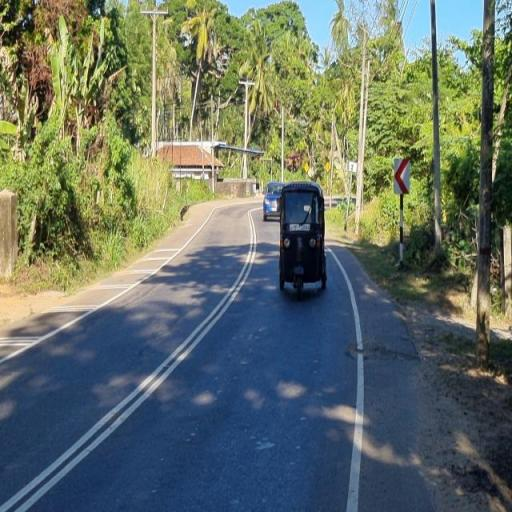double_white_line: (1, 208, 256, 510)
